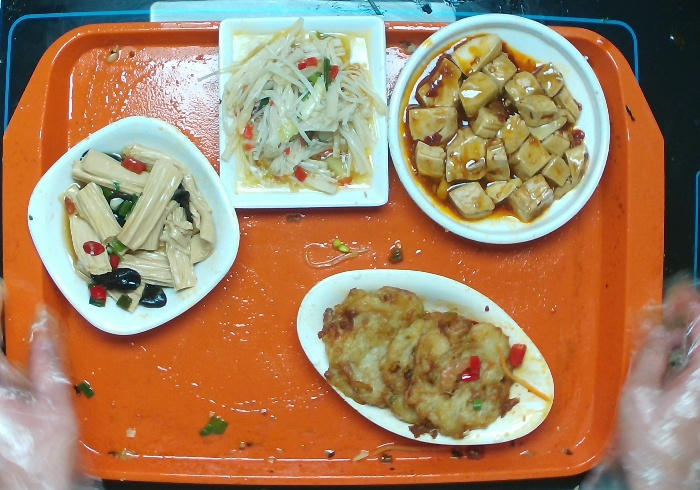HZYJPL-Si_Fang_Die: (211, 13, 399, 218)
HZYJPL-Si_Fang_Yuan_Die: (23, 109, 245, 341)
HZYJPL-Xiao_Yu_Die: (288, 257, 562, 453)
HZYJPL-Xiao_Yuan_Die: (376, 5, 619, 247)
